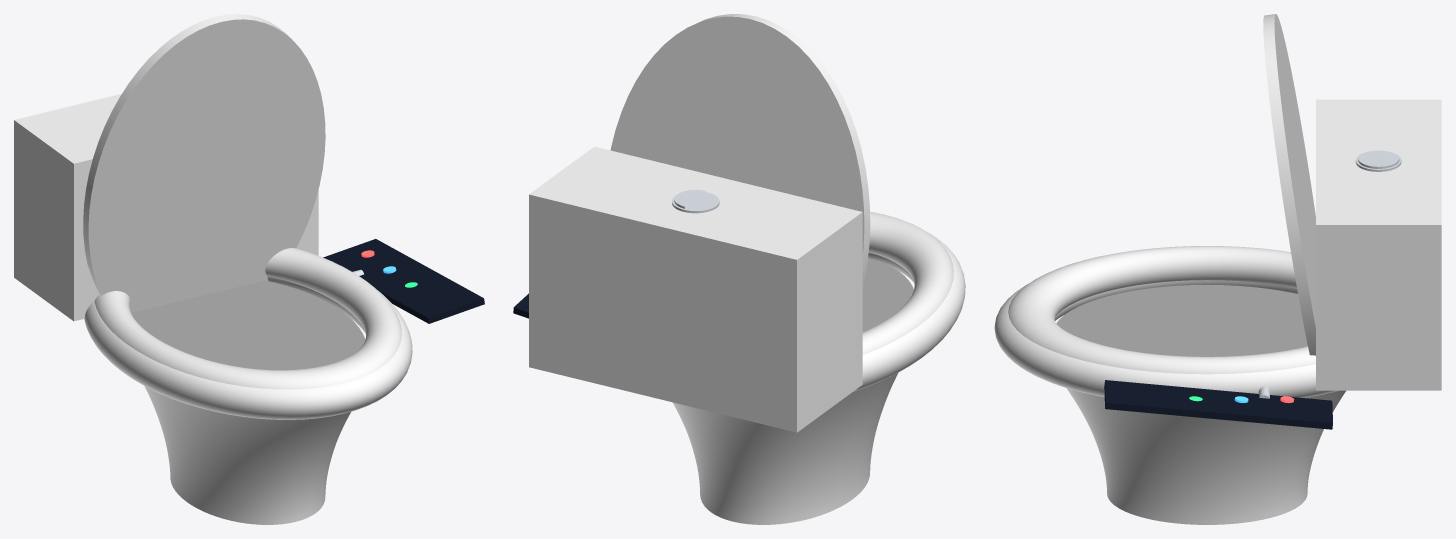
File: washlet_premium.glb
3 renders of one model, left to right at view 1: azimuth 30°, elevation 25°; view 2: azimuth 150°, elevation 25°; view 3: azimuth 270°, elevation 25°, orthographic. The views are drawn at different scales.
Bounding box in the file's own units: 3.38 × 4.59 × 3.91.
